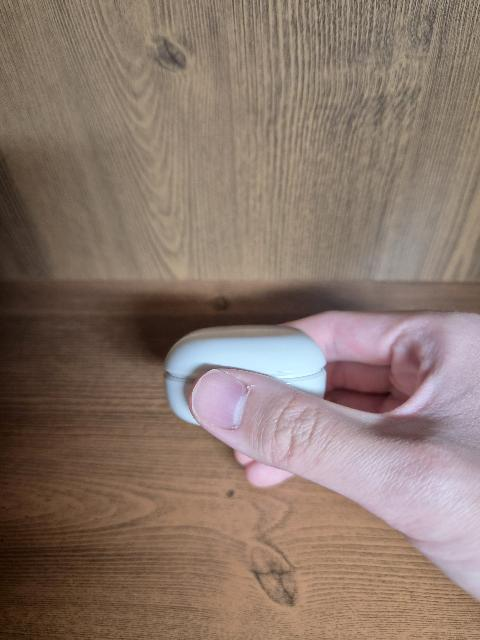earphone_case: (163, 324, 327, 426)
